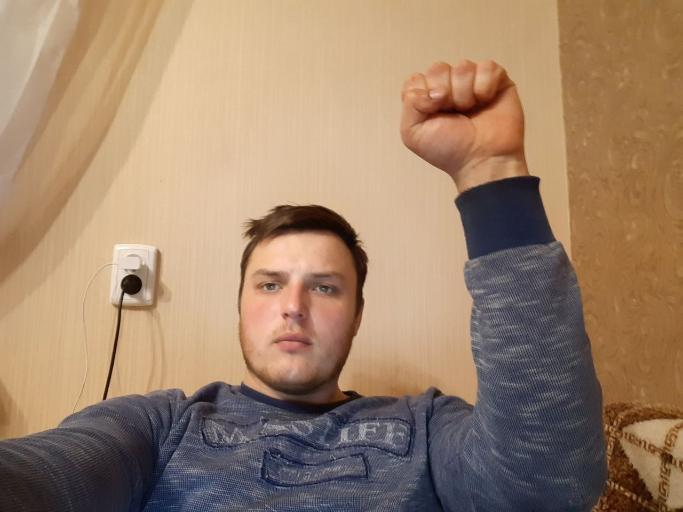fist: (395, 54, 533, 176)
